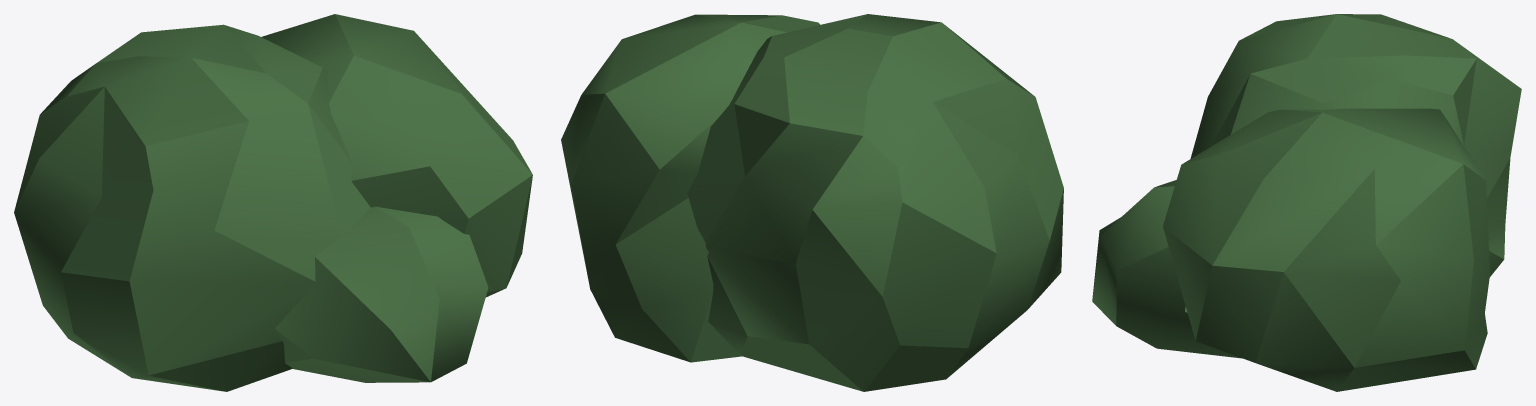
The model's file is Bush1.fbx.
The picture shows the model from 3 angles, left to right: view 1: azimuth 30°, elevation 25°; view 2: azimuth 150°, elevation 25°; view 3: azimuth 270°, elevation 25°; orthographic projection. The views are drawn at different scales.
Visible parts, largest first — view 1: Bush1; view 2: Bush1; view 3: Bush1.
Part boxes in pixels (x1=…): Bush1: x1=14, y1=14, x2=532, y2=391; Bush1: x1=561, y1=14, x2=1063, y2=391; Bush1: x1=1092, y1=14, x2=1521, y2=391.
Size of the model in its own units: 36.53 by 22.94 by 33.5.
